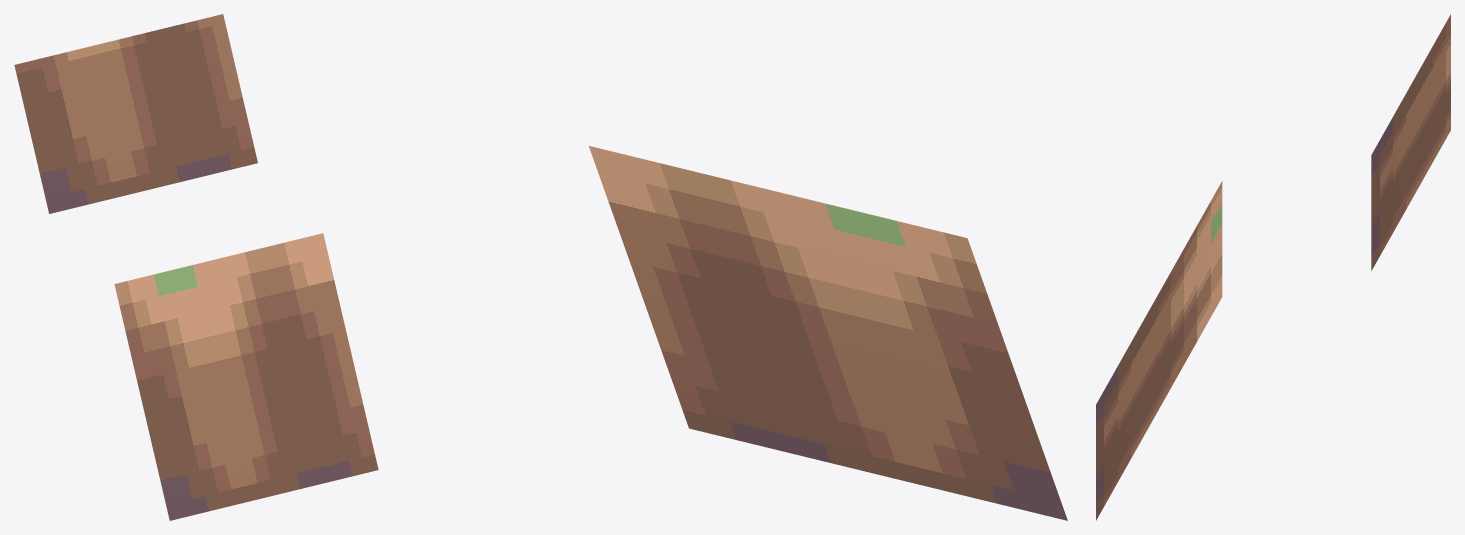
3 views of the same model, side by side, from view 1: azimuth 30°, elevation 25°; view 2: azimuth 150°, elevation 25°; view 3: azimuth 270°, elevation 25° (orthographic). The views are drawn at different scales.
Bounding box in the file's own units: 1 × 1.57 × 1.29.
Materials: 1 (1 with a texture image).
